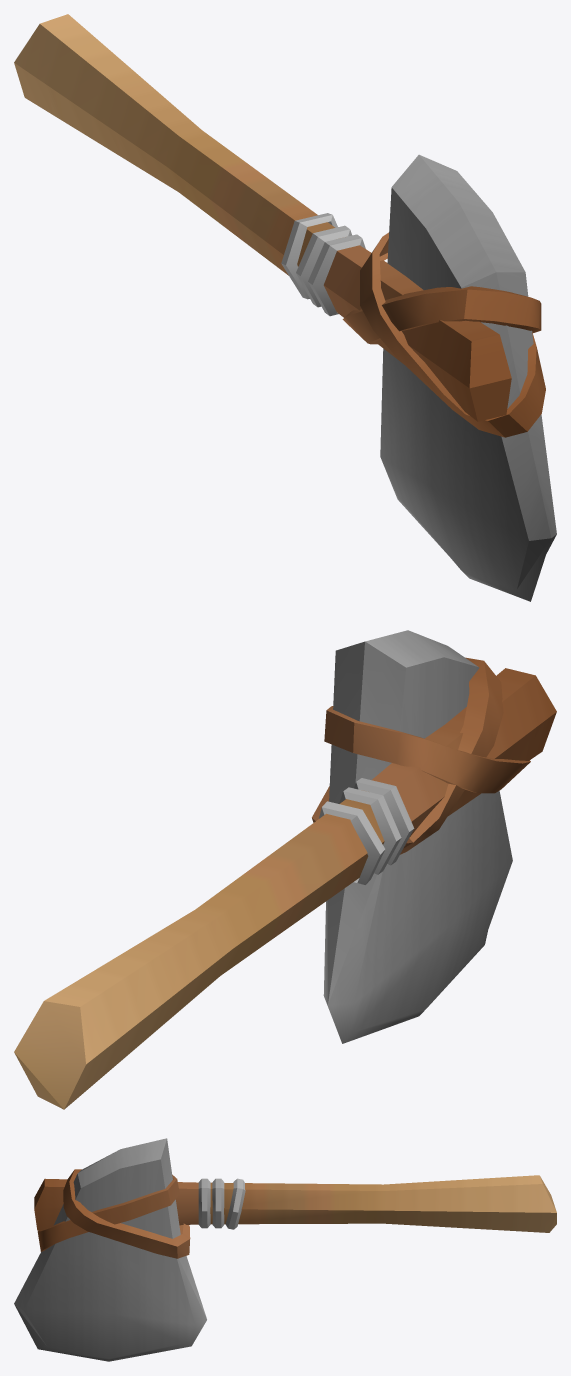
The model's file is LV2_Weapon.fbx.
3 renders of one model, top to bottom at view 1: azimuth 30°, elevation 25°; view 2: azimuth 150°, elevation 25°; view 3: azimuth 270°, elevation 25°, orthographic. The views are drawn at different scales.
Parts seen in each view (by area): view 1: LV2_Weapon; view 2: LV2_Weapon; view 3: LV2_Weapon.
Part boxes in pixels (left/top/right/bottom): LV2_Weapon: left=14, top=14, right=556, bottom=601; LV2_Weapon: left=14, top=630, right=556, bottom=1109; LV2_Weapon: left=14, top=1138, right=556, bottom=1361.
Bounding box in the file's own units: 13.17 × 37.52 × 82.61.
Materials: 1 (1 with a texture image).
